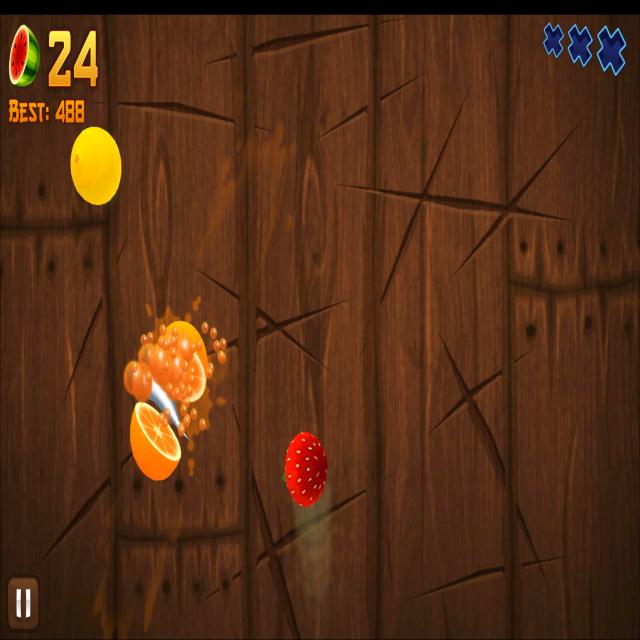fruit: (70, 126, 121, 206), (285, 430, 327, 509)
